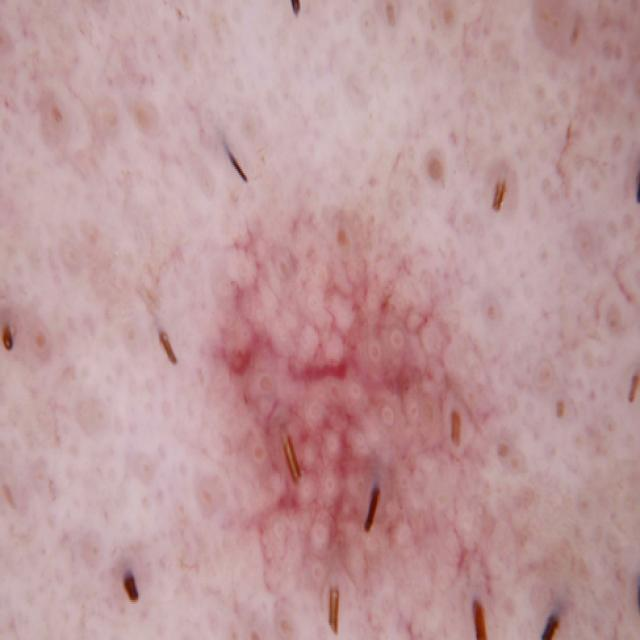Keratosis: (168, 203, 543, 640)
